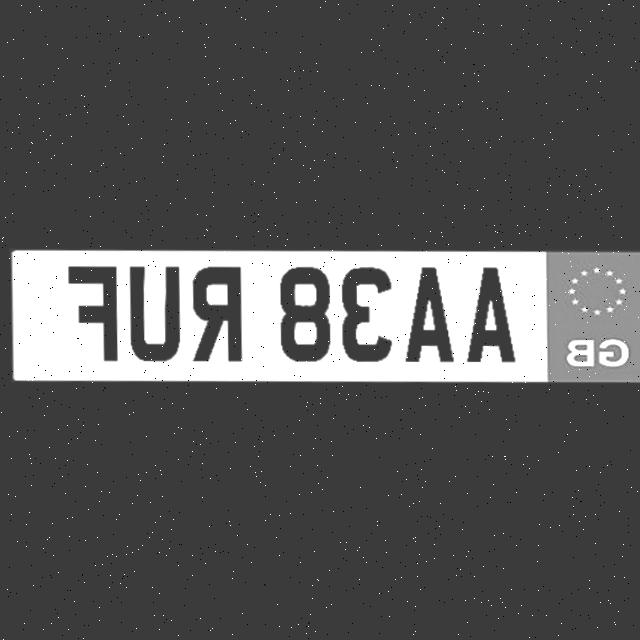license-plates: (9, 248, 640, 381)
